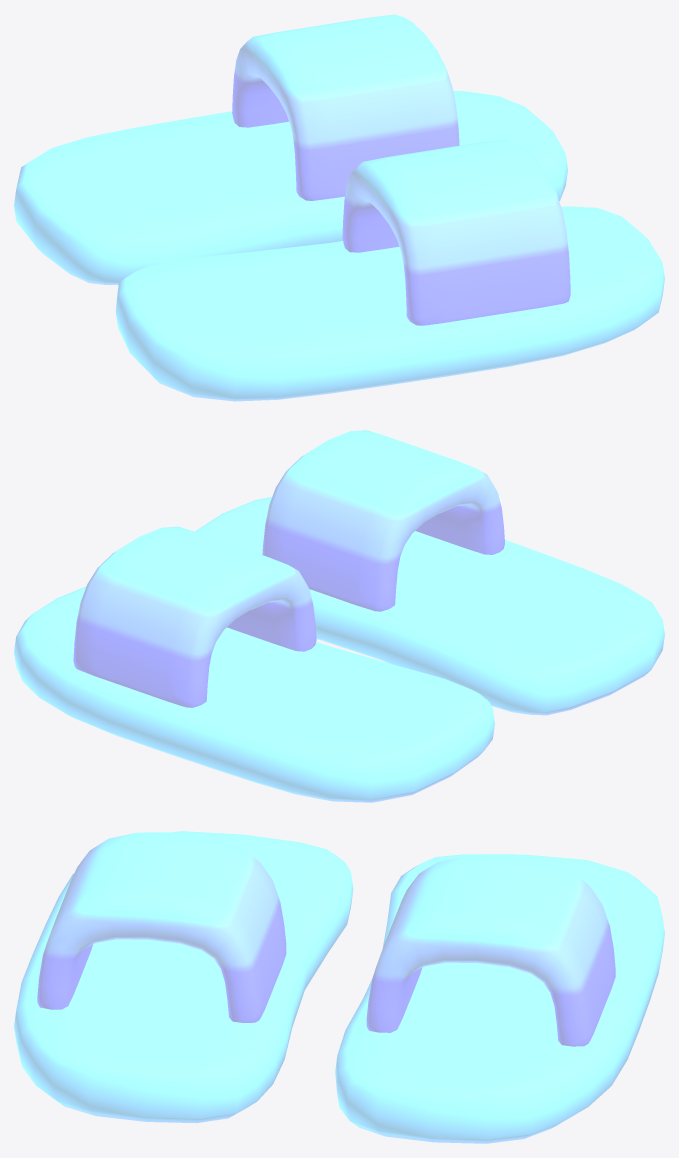
Rendered from slipers.gltf.
The picture shows the model from 3 angles, top to bottom: view 1: azimuth 30°, elevation 25°; view 2: azimuth 150°, elevation 25°; view 3: azimuth 270°, elevation 25°; orthographic projection. The views are drawn at different scales.
Visible parts, largest first — view 1: slipper_31; view 2: slipper_31; view 3: slipper_31.
Part boxes in pixels (left/top/right/bottom): slipper_31: left=14, top=14, right=664, bottom=401; slipper_31: left=14, top=430, right=664, bottom=802; slipper_31: left=14, top=831, right=664, bottom=1143.
Size of the model in its own units: 0.4491 by 0.1279 by 0.4561.
1 material, 1 textured.
